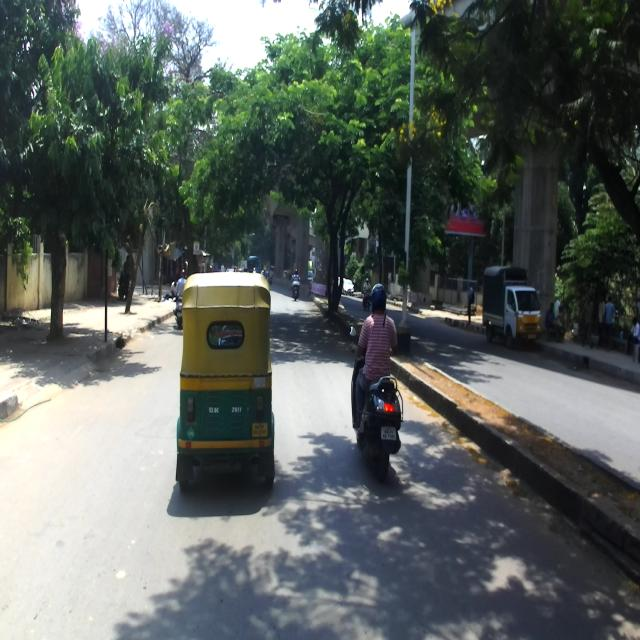auto ahead at: (174, 269, 278, 501)
motorcycle ahead at: (348, 375, 402, 464)
tree ahead at: (42, 216, 76, 352)
